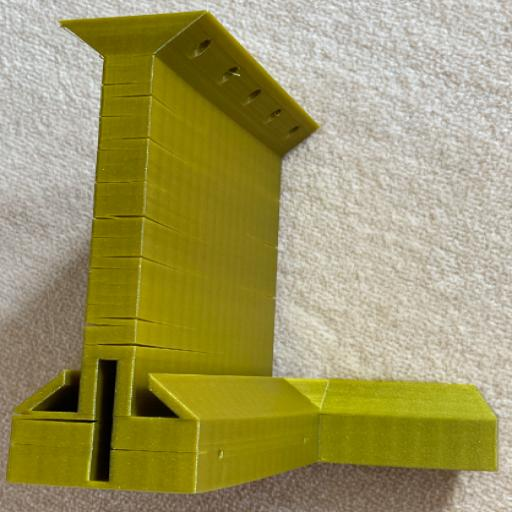cracks: (81, 76, 213, 360), (18, 414, 107, 431), (109, 443, 198, 457)
